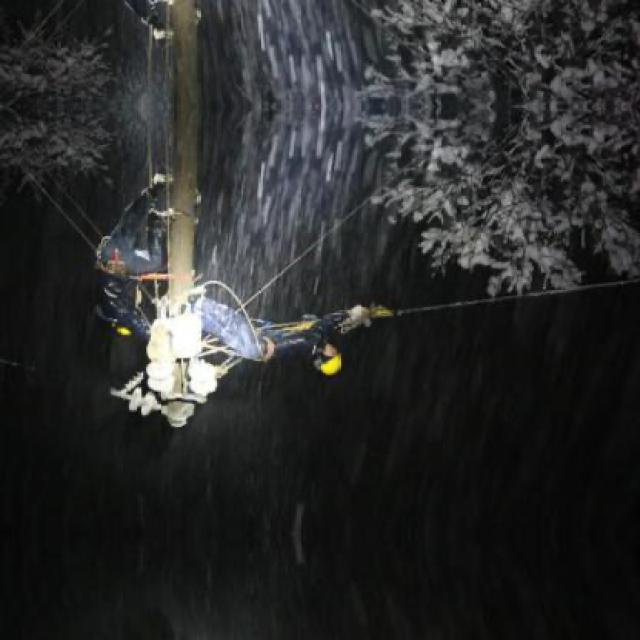con casco: (264, 336, 358, 389)
